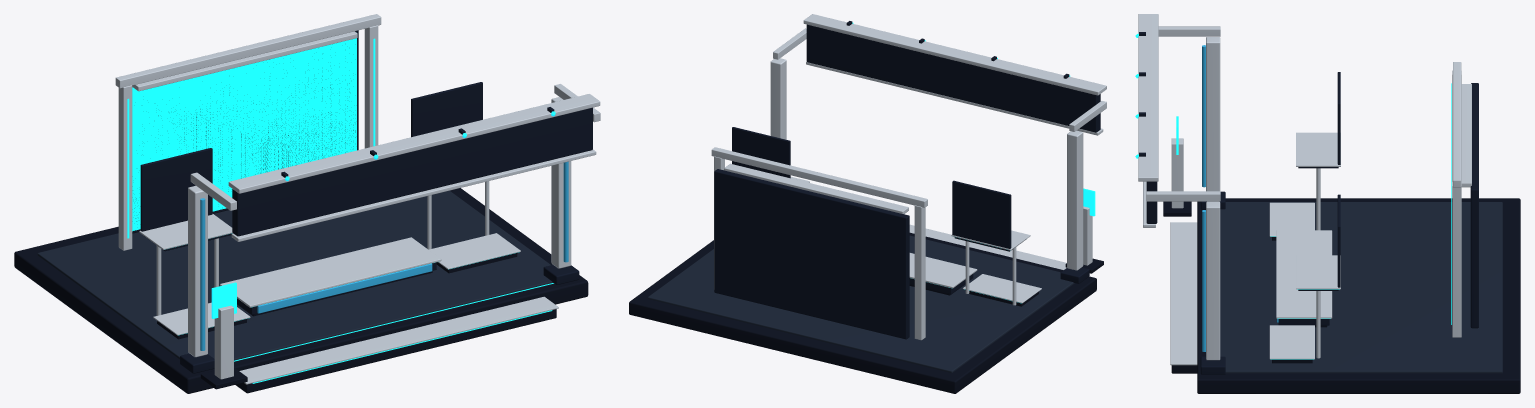
The model's file is aether_tech_v2.glb.
The picture shows the model from 3 angles, left to right: view 1: azimuth 30°, elevation 25°; view 2: azimuth 150°, elevation 25°; view 3: azimuth 270°, elevation 25°; orthographic projection. The views are drawn at different scales.
Parts seen in each view (by area): view 1: aether_tech_v2; view 2: aether_tech_v2; view 3: aether_tech_v2.
Part boxes in pixels (left/top/right/bottom): aether_tech_v2: left=14, top=14, right=600, bottom=393; aether_tech_v2: left=629, top=14, right=1106, bottom=393; aether_tech_v2: left=1135, top=14, right=1520, bottom=393.
Bounding box in the file's own units: 7.24 × 3.91 × 6.48.
